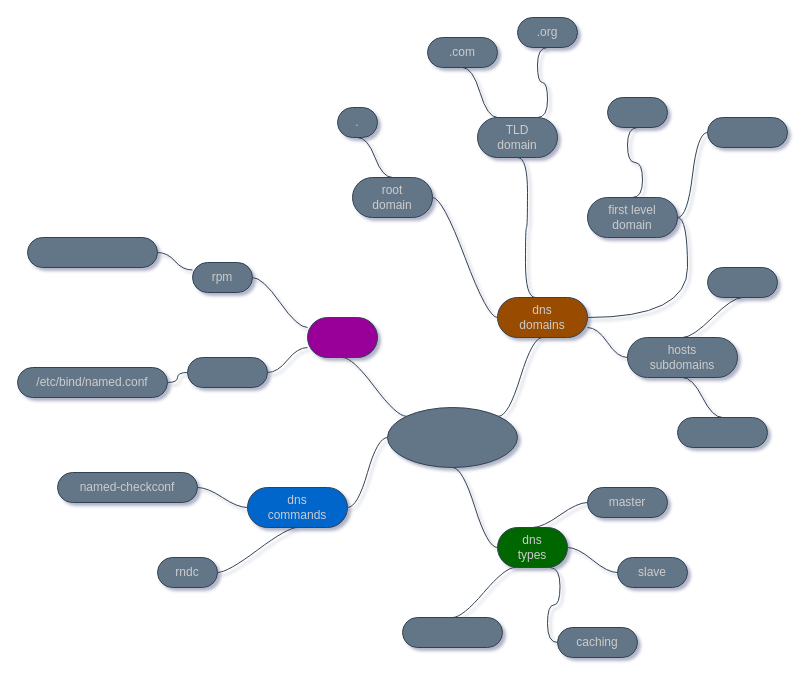
This 811x681 diagram has some shape labels left out. The shapes that lost their labels are listed below. From the top down, each one's centre as x and y in pixels, then its label:
At (x=637, y=112): ".lpi".
At (x=747, y=132): ".ubuntu".
At (x=92, y=252): "/etc/named.conf".
At (x=742, y=282): "www".
At (x=342, y=337): "dns config".
At (x=227, y=372): "debian".
At (x=452, y=437): "Topic 207.1".
At (x=722, y=432): "software".
At (x=452, y=632): "forwarding".
